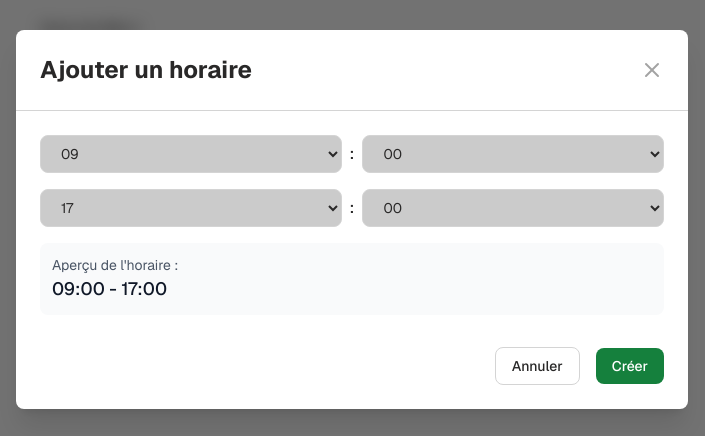
Test case: AddTimetableModal › should handle non-Error exceptions during submission
Click the button "Créer" at (630, 366), box x1=596 y1=348 x2=664 y2=384
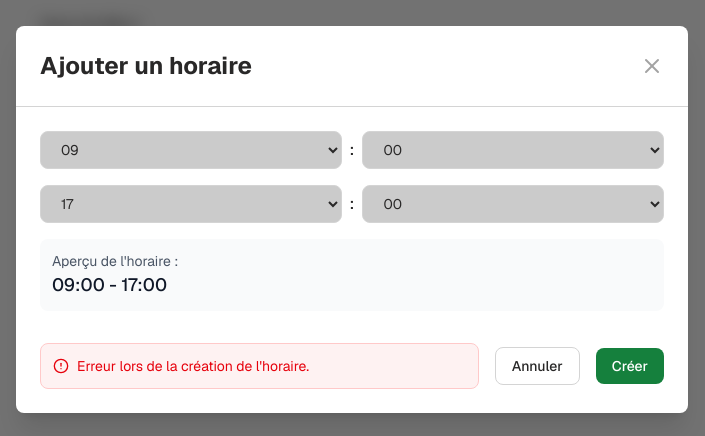
Result: the text "Erreur lors de la création de l'horaire." is shown at x1=77 y1=356 x2=309 y2=374
